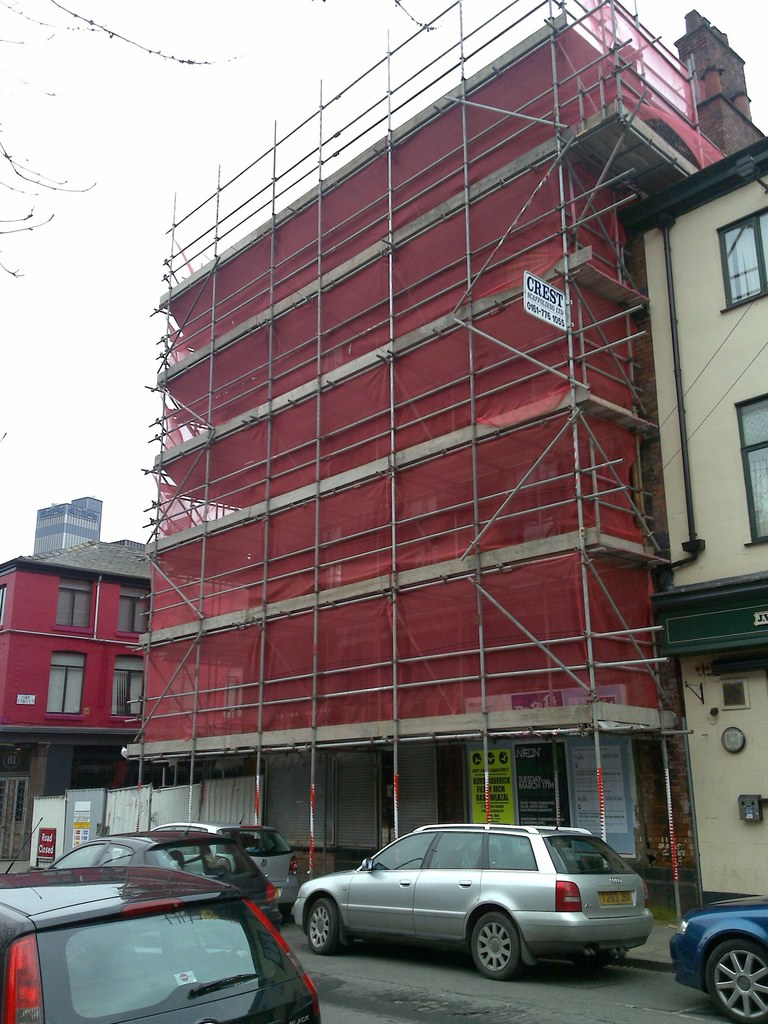Car: (0, 812, 318, 1023), (292, 812, 656, 976), (44, 831, 290, 927), (659, 885, 767, 1023), (163, 816, 295, 899)
